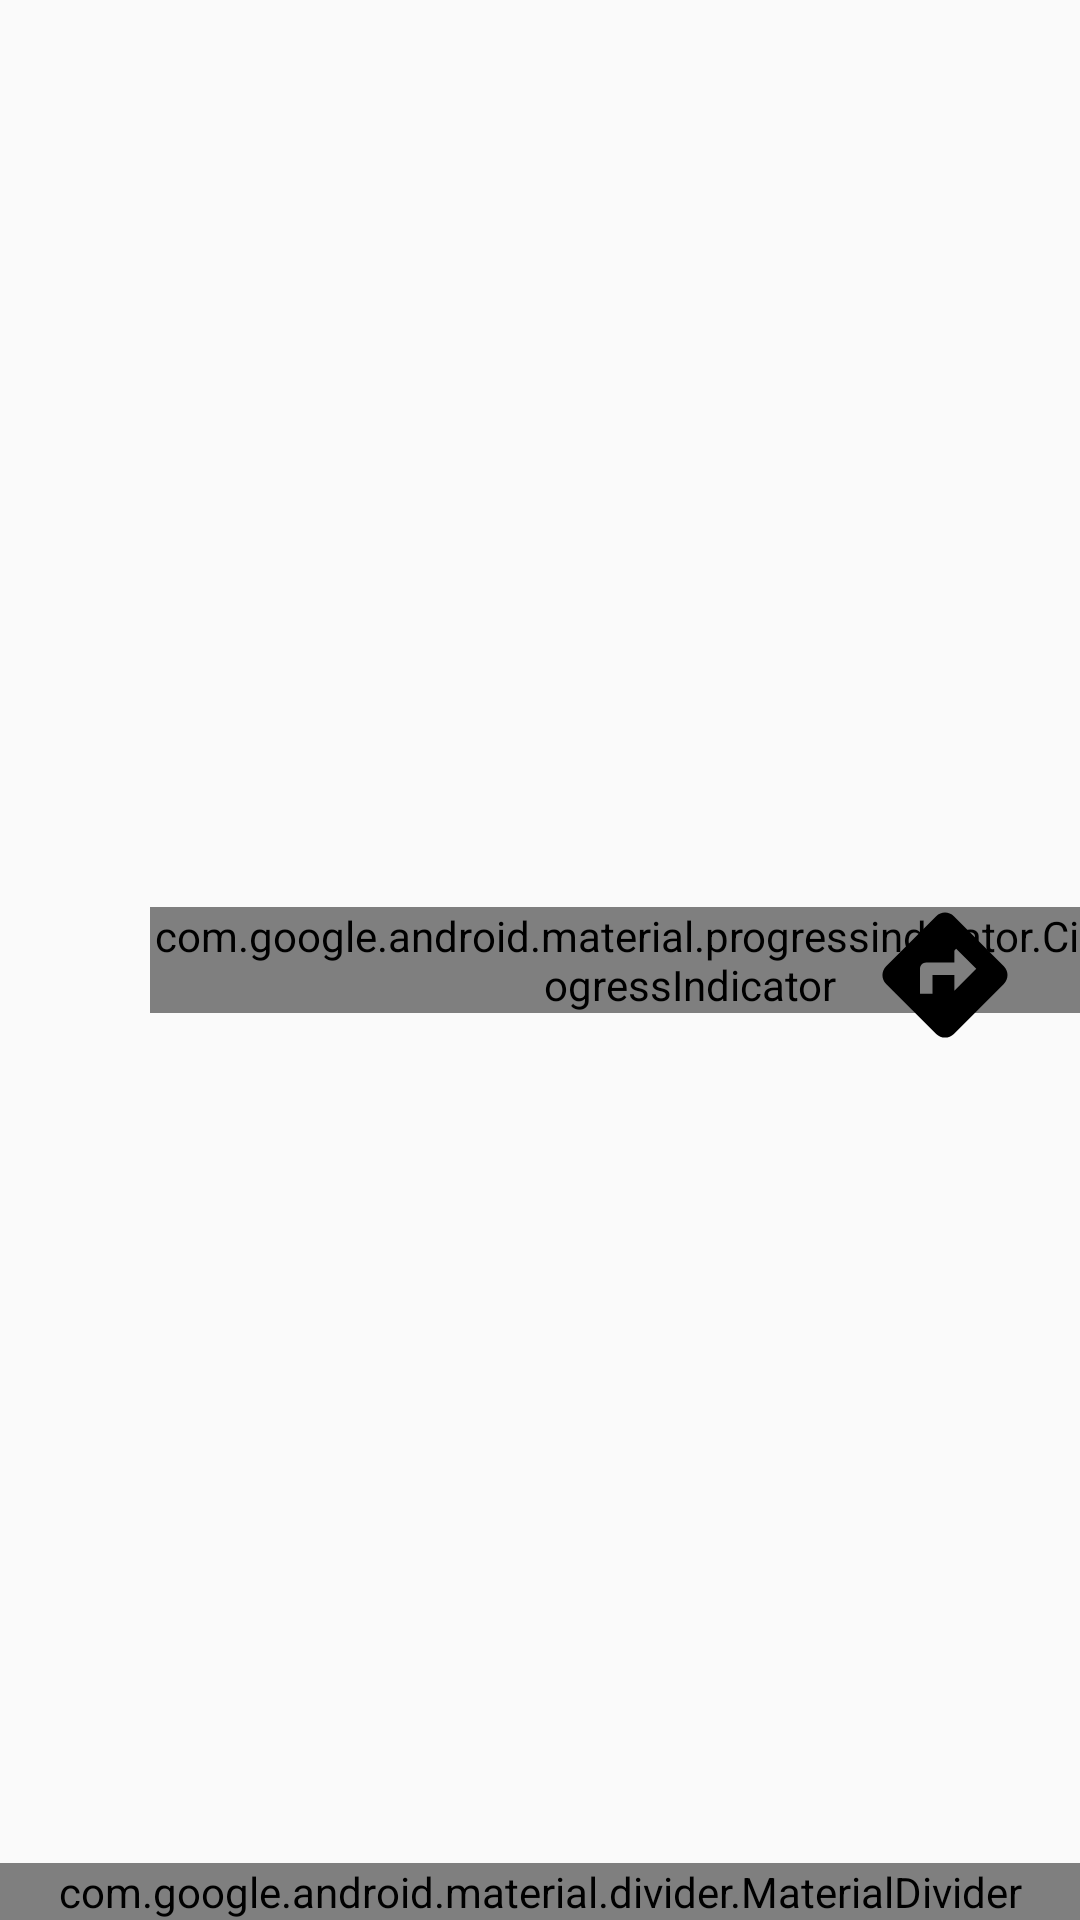

Named icons in this screenshot (1080 × 1920) and their bounding boxes, Rect(x1, y1, x2, y2):
direction: Rect(870, 907, 1020, 1038)
